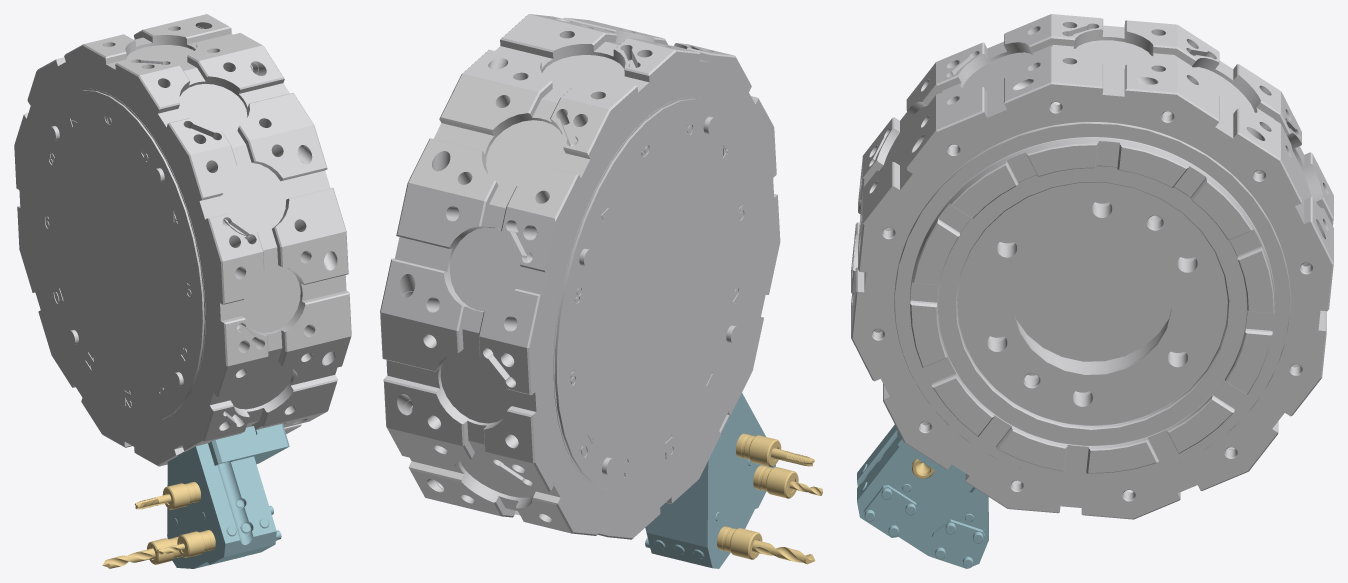
The model's file is turret-assembly-clean.glb.
The picture shows the model from 3 angles, left to right: view 1: azimuth 30°, elevation 25°; view 2: azimuth 150°, elevation 25°; view 3: azimuth 270°, elevation 25°; orthographic projection. The views are drawn at different scales.
Visible parts, largest first — view 1: Turret Assembly; view 2: Turret Assembly; view 3: Turret Assembly.
Part boxes in pixels (<box>): Turret Assembly: <box>14,14,351,568</box>; Turret Assembly: <box>380,14,822,568</box>; Turret Assembly: <box>851,14,1333,568</box>.
Size of the model in its own units: 23.13 by 47.58 by 39.53.
